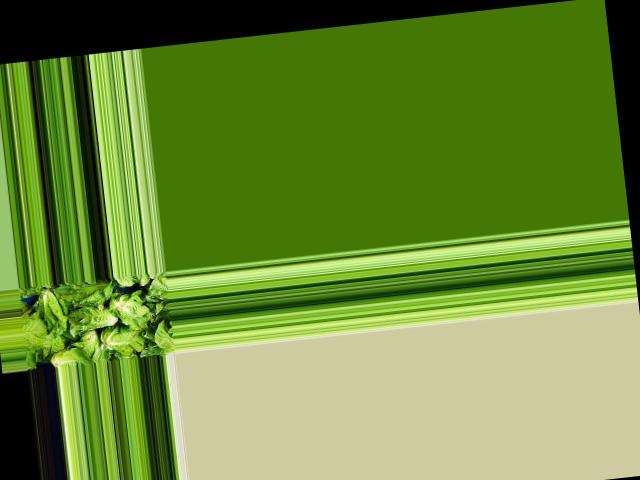lettuce: (42, 344, 93, 368)
